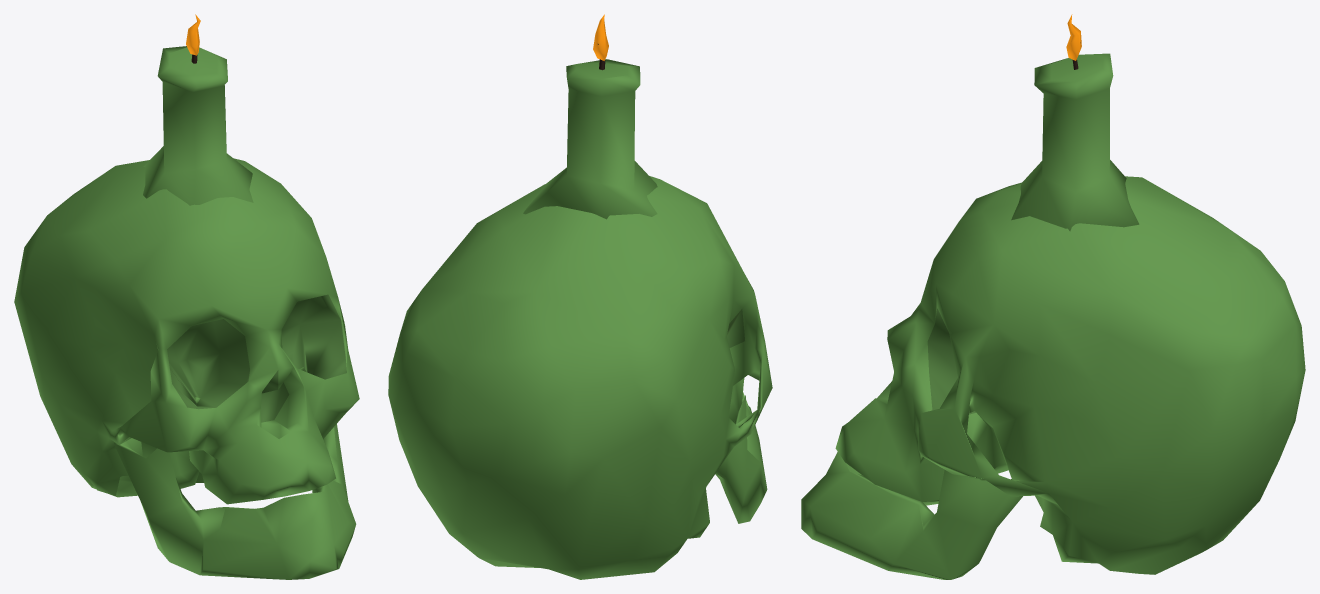
The model's file is CandleSkullShapeB.015.glb.
3 renders of one model, left to right at view 1: azimuth 30°, elevation 25°; view 2: azimuth 150°, elevation 25°; view 3: azimuth 270°, elevation 25°, orthographic. The views are drawn at different scales.
Parts seen in each view (by area): view 1: CandleSkullShapeB.015; view 2: CandleSkullShapeB.015; view 3: CandleSkullShapeB.015.
Part boxes in pixels (x1=…): CandleSkullShapeB.015: x1=14, y1=14, x2=359, y2=579; CandleSkullShapeB.015: x1=388, y1=14, x2=772, y2=579; CandleSkullShapeB.015: x1=801, y1=14, x2=1305, y2=579.
Bounding box in the file's own units: 0.2005 × 0.3649 × 0.3132.
2 materials, 2 textured.
